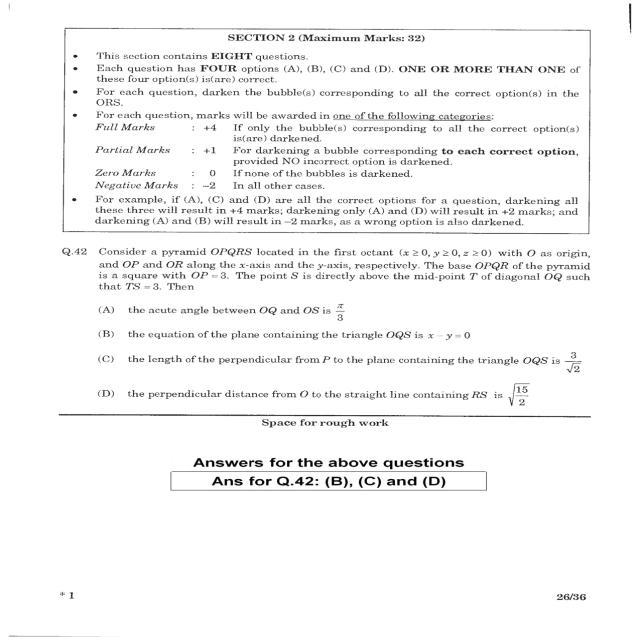Answer_Block: (52, 301, 610, 413)
Instruction: (52, 17, 610, 240), (81, 438, 578, 503)
Question_Answer_Block: (52, 241, 610, 413)
Question_Block: (52, 241, 610, 301)
Question_Paper_Area: (52, 17, 610, 517)
